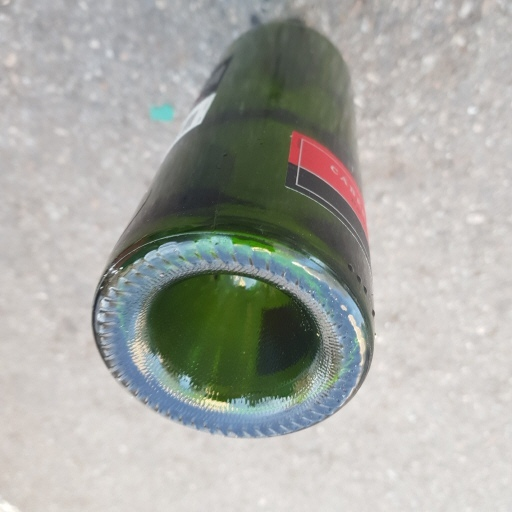Glass_2: (90, 16, 380, 437)
